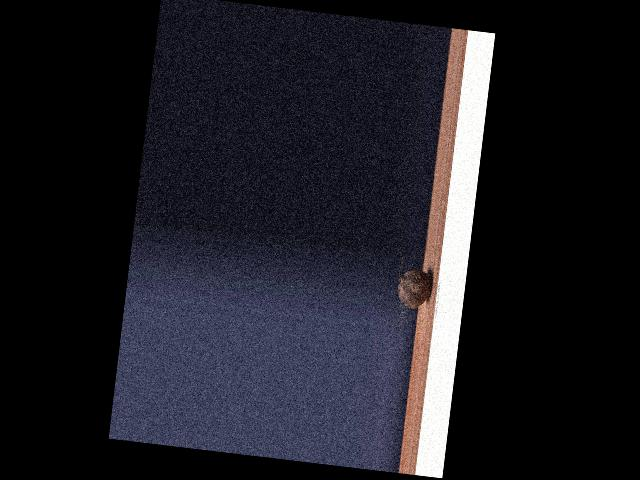beet: (395, 255, 434, 310)
